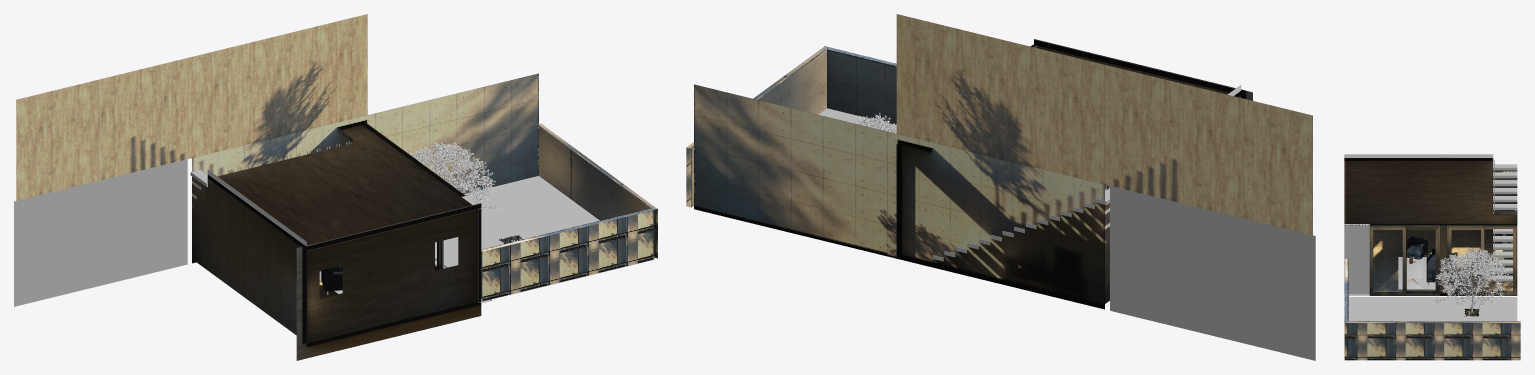
Rendered from baked_version_wip5.gltf.
3 renders of one model, left to right at view 1: azimuth 30°, elevation 25°; view 2: azimuth 150°, elevation 25°; view 3: azimuth 270°, elevation 25°, orthographic. The views are drawn at different scales.
Parts seen in each view (by area): view 1: Wall.008, Plane, Wall.014, Wall.011, Wall.012, Roof.001, Wall.001, Floor.001, Wall.002, Fall Leaf Small.001, mullion right fix; view 2: Wall.008, Wall.014, Wall.011, Wall.012, Wall.002, Plane, Stairs, mullion right fix, Wall.001, Roof.001; view 3: Roof.001, Wall.008, Floor.001, Floor.002, mullion right fix, Fall Leaf Small.001, Stairs, Wall.005, Wall.001, Carpet, Wall.006, table top (+2 smaller).
Part boxes in pixels (x1,y1,x2,y2): Wall.008: (365, 73, 657, 301); Plane: (296, 203, 481, 360); Wall.014: (14, 159, 187, 306); Wall.011: (192, 14, 367, 157); Wall.012: (16, 57, 191, 200); Roof.001: (218, 125, 477, 250); Wall.001: (192, 169, 306, 342); Floor.001: (435, 176, 653, 302); Wall.002: (192, 115, 365, 263); Fall Leaf Small.001: (410, 142, 500, 211); mullion right fix: (363, 124, 465, 270); Wall.008: (686, 46, 899, 259); Wall.014: (1110, 186, 1315, 360); Wall.011: (896, 14, 1104, 184); Wall.012: (1105, 65, 1312, 235); Wall.002: (899, 134, 1104, 309); Plane: (1034, 39, 1252, 100); Stairs: (932, 188, 1109, 261); mullion right fix: (896, 144, 902, 256); Wall.001: (1105, 85, 1241, 303); Roof.001: (1030, 44, 1229, 94); Roof.001: (1344, 161, 1516, 225); Wall.008: (1344, 258, 1520, 360); Floor.001: (1344, 297, 1517, 358); Floor.002: (1373, 230, 1512, 291); mullion right fix: (1369, 224, 1517, 295); Fall Leaf Small.001: (1433, 248, 1508, 312); Stairs: (1493, 164, 1517, 281); Wall.005: (1344, 224, 1369, 295); Wall.001: (1344, 154, 1517, 230); Carpet: (1398, 257, 1435, 289); Wall.006: (1440, 224, 1446, 295); table top: (1401, 259, 1421, 278).
Size of the model in its own units: 18.06 by 7.1 by 6.93.
